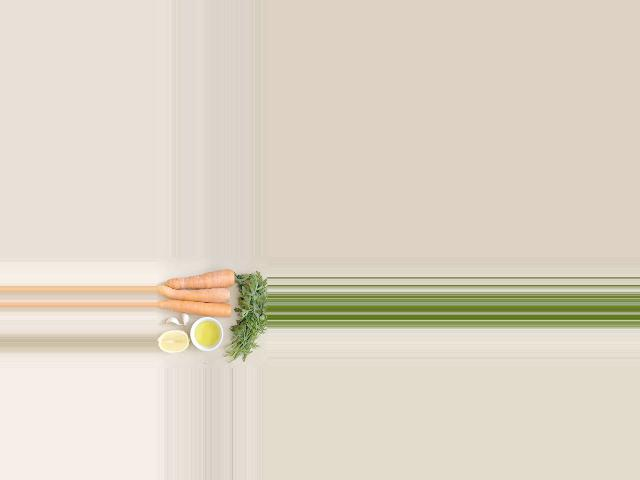carrot: (156, 297, 235, 317)
